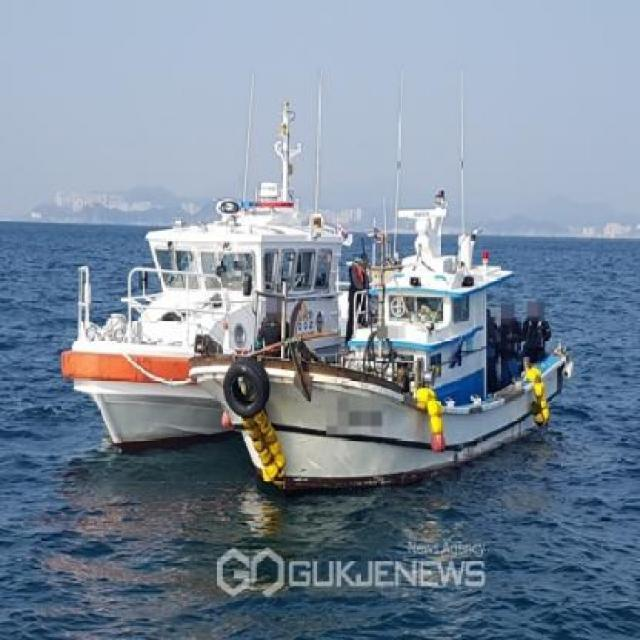Ship: (190, 191, 581, 499), (57, 179, 382, 452)
